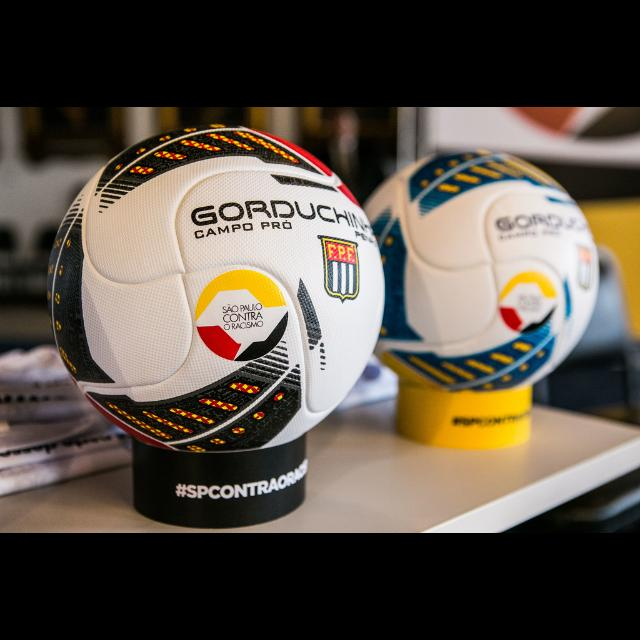Football: (47, 120, 387, 452), (360, 145, 600, 395)
